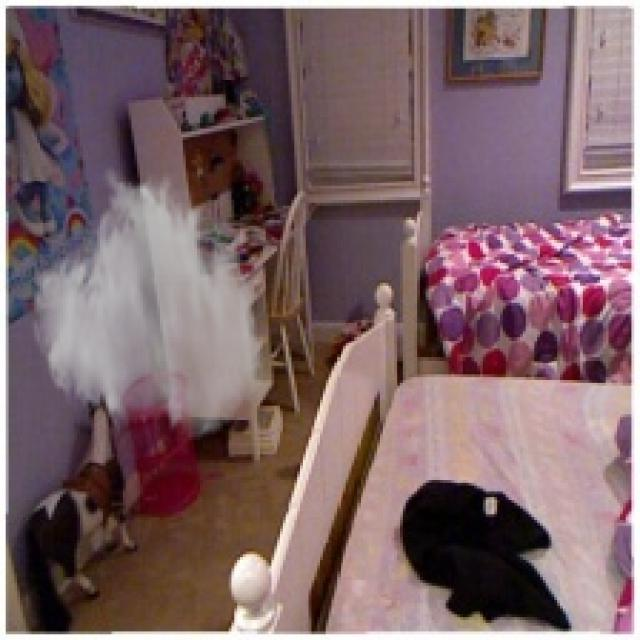smoke: (28, 163, 266, 443)
